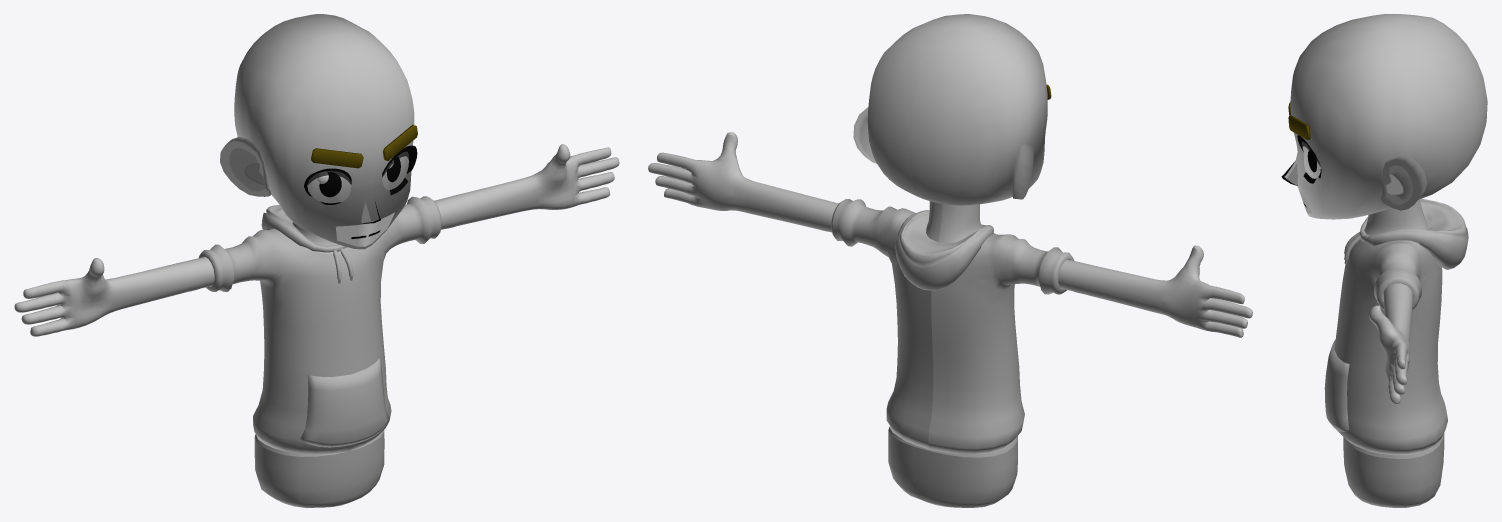
The model's file is char.fbx.
3 views of the same model, side by side, from view 1: azimuth 30°, elevation 25°; view 2: azimuth 150°, elevation 25°; view 3: azimuth 270°, elevation 25° (orthographic).
Parts seen in each view (by area): view 1: polySurface1332; view 2: polySurface1332; view 3: polySurface1332.
Boxes of the visible parts, box(x1,y1,x2,y2) form: polySurface1332: box(14, 14, 619, 507); polySurface1332: box(648, 14, 1252, 507); polySurface1332: box(1281, 14, 1487, 507).
Bounding box in the file's own units: 1.34 × 0.989 × 0.3967.
